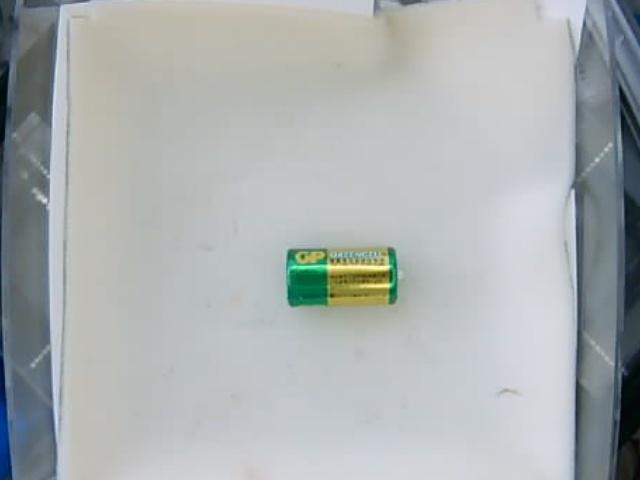Battery: (287, 246, 402, 308)
